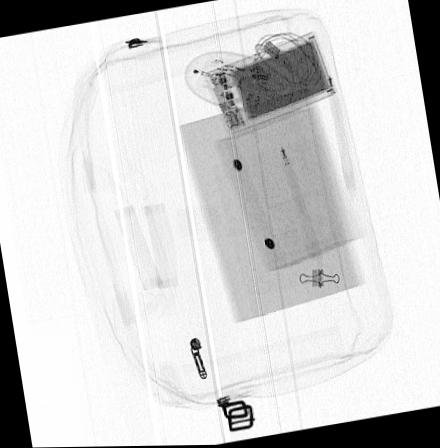Powerbank: (203, 30, 337, 133)
